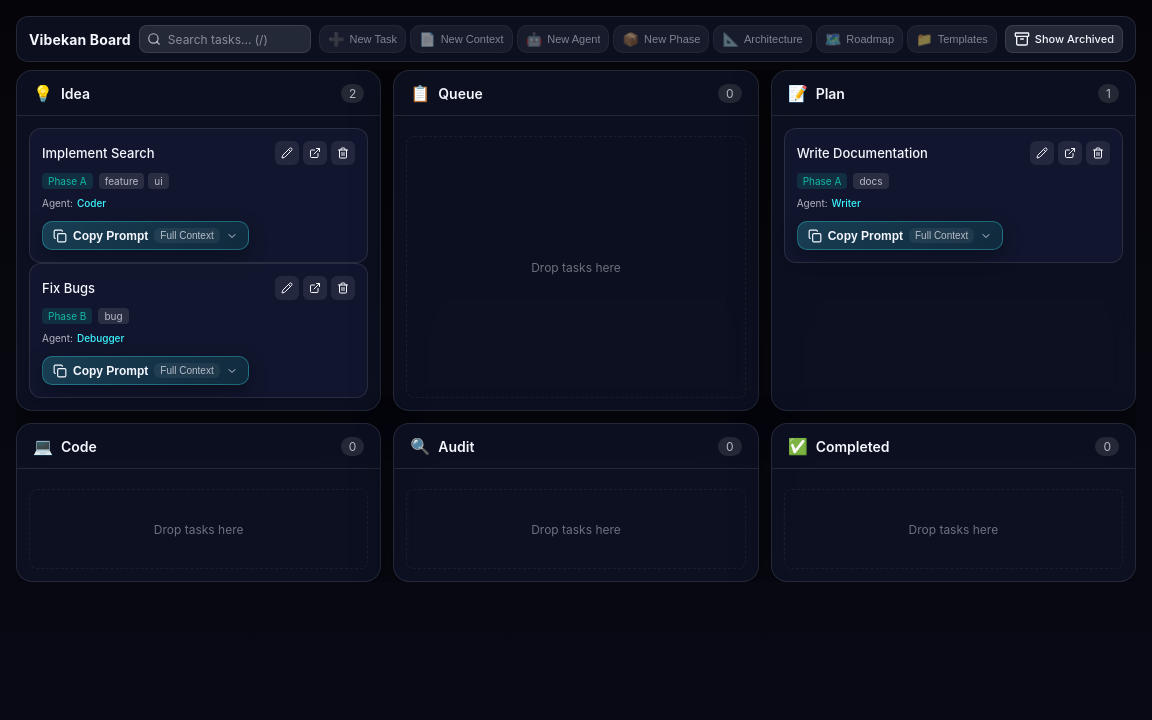
Test: Board Search Bar › filters tasks based on title
expect the text "Implement Search" is shown: met, box [42, 145, 155, 161]
expect the text "Fix Bugs" is shown: met, box [42, 280, 95, 296]
Type "Search" into the field with placeholder "Search tasks... (/)" at (225, 39), box [139, 25, 311, 53]
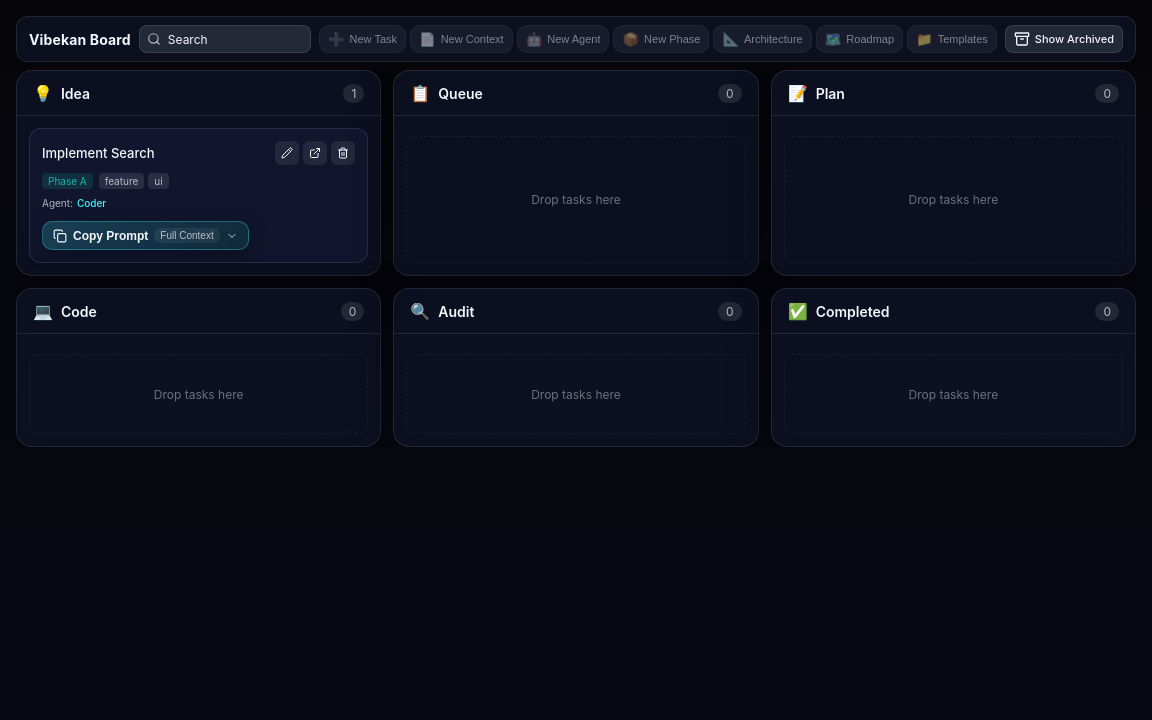
expect the text "Implement Search" is shown: met, box [42, 145, 155, 161]
expect the button "Fix Bugs" is gone: met
expect the button "Write Documentation" is gone: met
